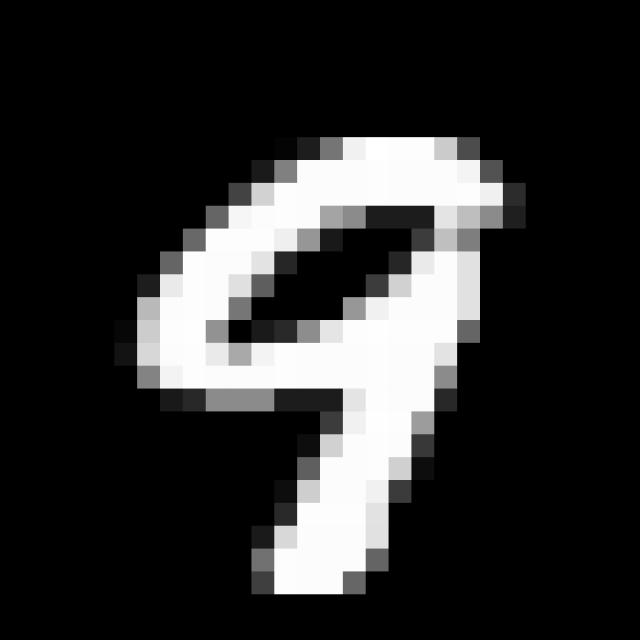nine -9-: (121, 126, 517, 607)
